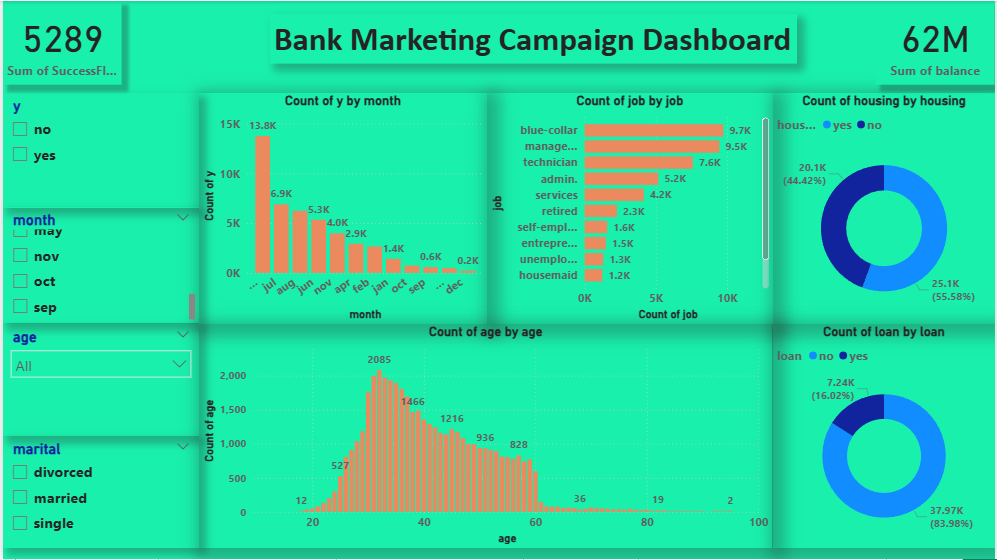

The page's visual inventory and layout, read from the dashboard file:
{"tool":"powerbi","page":{"name":"Bank Marketing Campaign Dashboard","canvas":[1280,720],"ordinal":4},"visuals":[{"type":"clusteredColumnChart","fields":{"Category":["bank-full.age"],"Y":["CountNonNull(bank-full.age)"]},"box":[253.4,416.2,740.2,289.4],"z":0},{"type":"clusteredBarChart","fields":{"Category":["bank-full.job"],"Y":["CountNonNull(bank-full.job)"]},"box":[625,118.1,368.6,298.1],"z":1000},{"type":"clusteredColumnChart","fields":{"Category":["bank-full.month"],"Y":["CountNonNull(bank-full.y)"]},"box":[253.4,118.1,371.5,298.1],"z":2000},{"type":"slicer","fields":{"Values":["bank-full.y"]},"box":[0,118.1,253.4,148.3],"z":3000},{"type":"slicer","fields":{"Values":["bank-full.month"]},"box":[0,266.4,253.4,149.8],"z":4000},{"type":"slicer","fields":{"Values":["bank-full.age"]},"box":[0,416.2,253.4,145.4],"z":5000},{"type":"slicer","fields":{"Values":["bank-full.marital"]},"box":[0,561.6,253.4,144],"z":6000},{"type":"donutChart","fields":{"Y":["CountNonNull(bank-full.housing)"],"Category":["bank-full.housing"]},"box":[993.6,118.1,286.6,298.1],"z":7000},{"type":"donutChart","fields":{"Category":["bank-full.loan"],"Y":["CountNonNull(bank-full.loan)"]},"box":[993.6,416.2,286.6,289.4],"z":8000},{"type":"textbox","box":[344.4,17,680.3,63.8],"z":8001},{"type":"card","fields":{"Values":["Sum(bank-full.SuccessFlag)"]},"box":[0,0,153.1,107.7],"z":8002},{"type":"card","fields":{"Values":["Sum(bank-full.balance)"]},"box":[1126.8,0,153.1,107.7],"z":8003}]}

Visuals, with their boxes in screenshot pixels (x1, y1, x2, y2), scaled from the page's 1280x720 canvas onto the 997x560 screenshot:
clusteredColumnChart - bank-full.age x CountNonNull(bank-full.age): bbox=(197, 324, 774, 549)
clusteredBarChart - bank-full.job x CountNonNull(bank-full.job): bbox=(487, 92, 774, 324)
clusteredColumnChart - bank-full.month x CountNonNull(bank-full.y): bbox=(197, 92, 487, 324)
slicer - bank-full.y: bbox=(0, 92, 197, 207)
slicer - bank-full.month: bbox=(0, 207, 197, 324)
slicer - bank-full.age: bbox=(0, 324, 197, 437)
slicer - bank-full.marital: bbox=(0, 437, 197, 549)
donutChart - CountNonNull(bank-full.housing) x bank-full.housing: bbox=(774, 92, 996, 324)
donutChart - bank-full.loan x CountNonNull(bank-full.loan): bbox=(774, 324, 996, 549)
textbox: bbox=(268, 13, 798, 63)
card - Sum(bank-full.SuccessFlag): bbox=(0, 0, 119, 84)
card - Sum(bank-full.balance): bbox=(878, 0, 996, 84)
